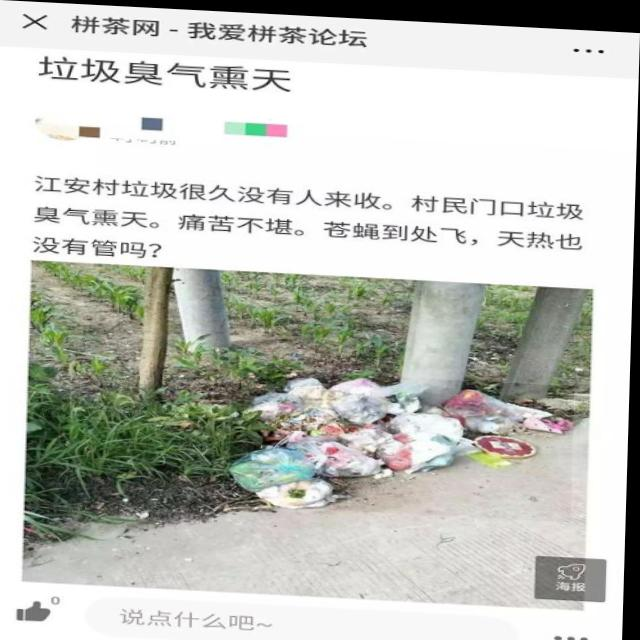garbage: (232, 366, 577, 516)
